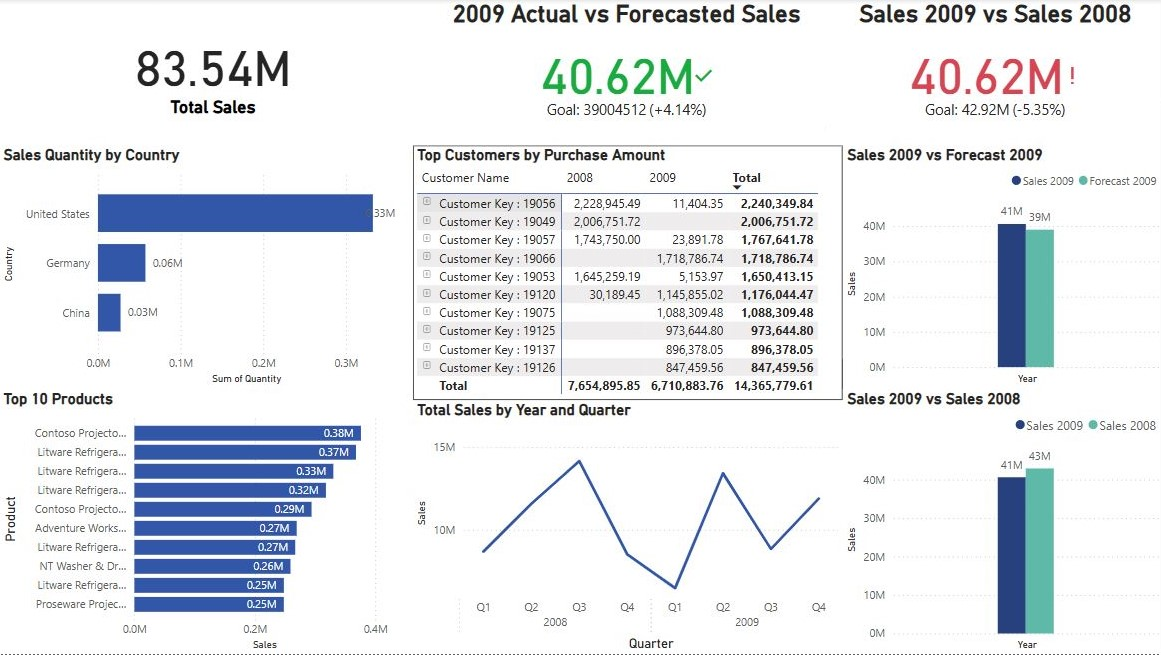

What the dashboard file says about the page in this screenshot:
{"tool":"powerbi","page":{"name":"Page 1","canvas":[1280,720],"ordinal":0},"visuals":[{"type":"pivotTable","title":"Top Customers by Purchase Amount","fields":{"Rows":["DimCustomers.Customer Display Name Final","DimProducts.Product Name"],"Columns":["DateTable.Year"],"Values":["FactSales.Total Sales Measure"]},"box":[454.2,160.5,472,279.9],"z":0},{"type":"kpi","title":"Sales 2009 vs Sales 2008","fields":{"TrendLine":["DateTable.Year"],"Indicator":["FactSales.Sales 2009"],"Goal":["FactSales.Sales 2008"]},"box":[907,0,373.2,160.5],"z":1000},{"type":"kpi","title":"2009 Actual vs Forecasted Sales","fields":{"Indicator":["FactSales.Sales 2009"],"Goal":["Sum(Forecast.Forecast)"],"TrendLine":["DateTable.Year"]},"box":[470.7,0,436.4,160.5],"z":2000},{"type":"clusteredColumnChart","title":"Sales 2009 vs Forecast 2009","fields":{"Y":["FactSales.Sales 2009","Sum(Forecast.Forecast)"]},"box":[926.2,440.5,354,279.9],"z":3000},{"type":"barChart","title":"Top 10 Products","fields":{"Category":["DimProducts.Product Name"],"Y":["FactSales.Total Sales Measure"]},"box":[0,428.1,454.2,292.3],"z":4000},{"type":"lineChart","fields":{"Y":["FactSales.Total Sales Measure"],"Category":["DateTable.Year","DateTable.Quarter"]},"box":[454.2,440.5,472,279.9],"z":5000},{"type":"clusteredColumnChart","title":"Sales 2009 vs Sales 2008","fields":{"Y":["FactSales.Sales 2009","FactSales.Sales 2008"]},"box":[926.2,160.5,354,279.9],"z":6000},{"type":"card","title":"Total Sales","fields":{"Values":["FactSales.Total Sales Measure"]},"box":[0,0,470.7,162],"z":7000},{"type":"barChart","title":"Sales Quantity by Country","fields":{"Y":["Sum(FactSales.Quantity)"],"Category":["DimCustomers.Country Hierarchy.Country","DimCustomers.Country Hierarchy.State","DimCustomers.Country Hierarchy.City"]},"box":[0,160.5,454.2,267.6],"z":8000}]}

Visuals, with their boxes in screenshot pixels (x1, y1, x2, y2), scaled from the page's 1280x720 canvas onto the 1161x655 screenshot:
"Top Customers by Purchase Amount" pivotTable: [412, 146, 840, 401]
"Sales 2009 vs Sales 2008" kpi: [823, 0, 1160, 146]
"2009 Actual vs Forecasted Sales" kpi: [427, 0, 823, 146]
"Sales 2009 vs Forecast 2009" clusteredColumnChart: [840, 401, 1160, 654]
"Top 10 Products" barChart: [0, 389, 412, 654]
lineChart - FactSales.Total Sales Measure x DateTable.Year: [412, 401, 840, 654]
"Sales 2009 vs Sales 2008" clusteredColumnChart: [840, 146, 1160, 401]
"Total Sales" card: [0, 0, 427, 147]
"Sales Quantity by Country" barChart: [0, 146, 412, 389]
